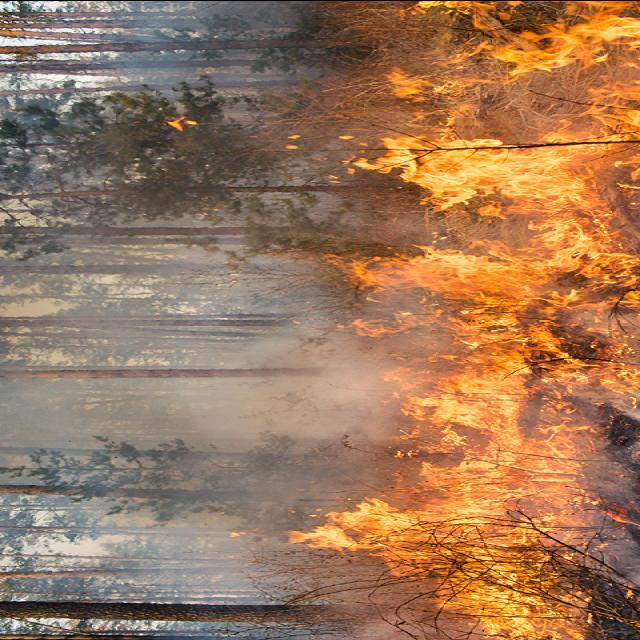Fire: (292, 9, 638, 632)
